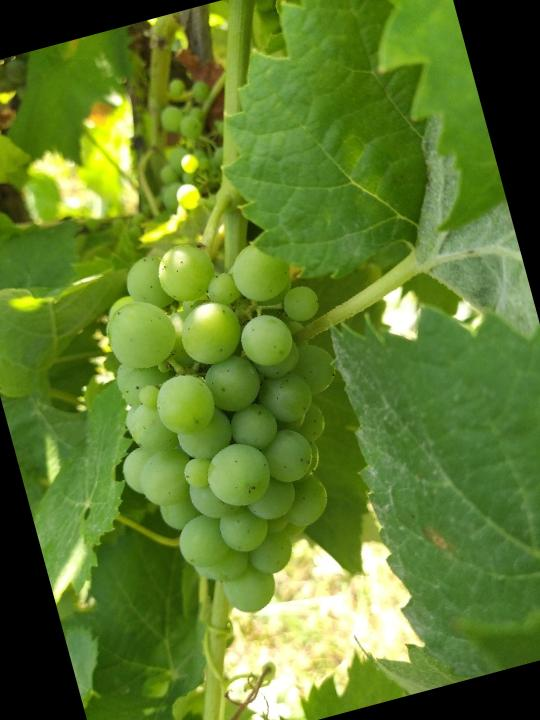grape: (67, 211, 389, 634)
